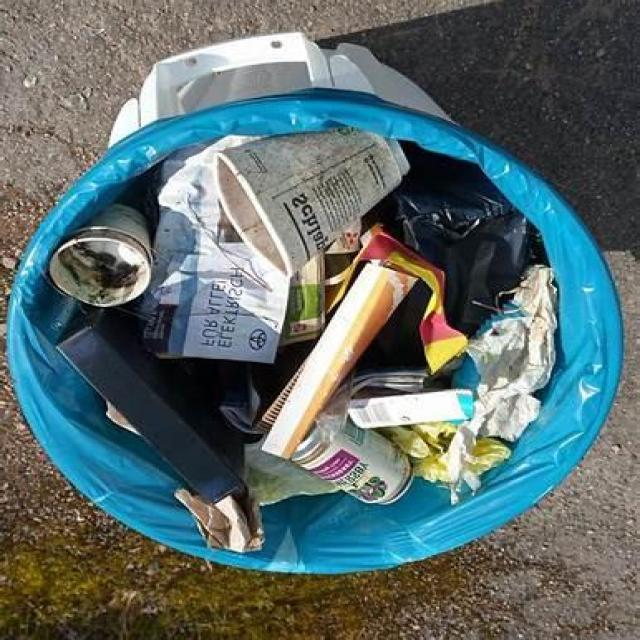Garbage: (32, 114, 563, 563)
Plastic_Bag: (395, 144, 528, 335)
can: (292, 416, 413, 504)
